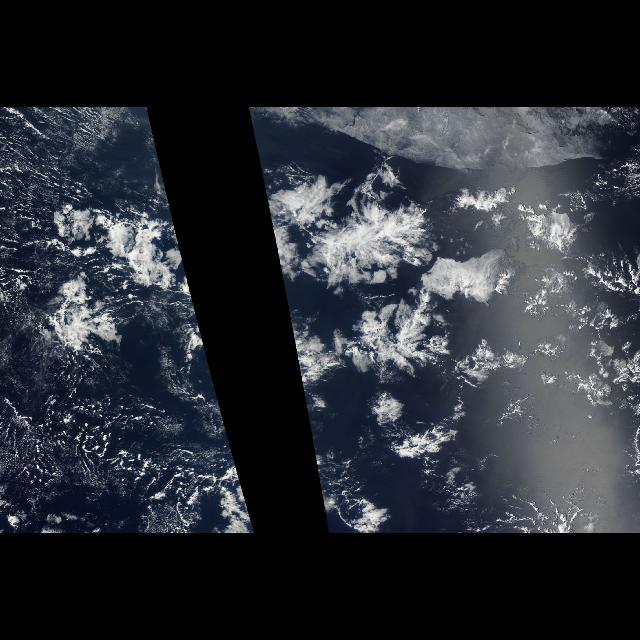Fish: (274, 164, 544, 390)
Flower: (261, 172, 633, 458), (40, 175, 234, 458)
Gravel: (1, 115, 200, 533)
